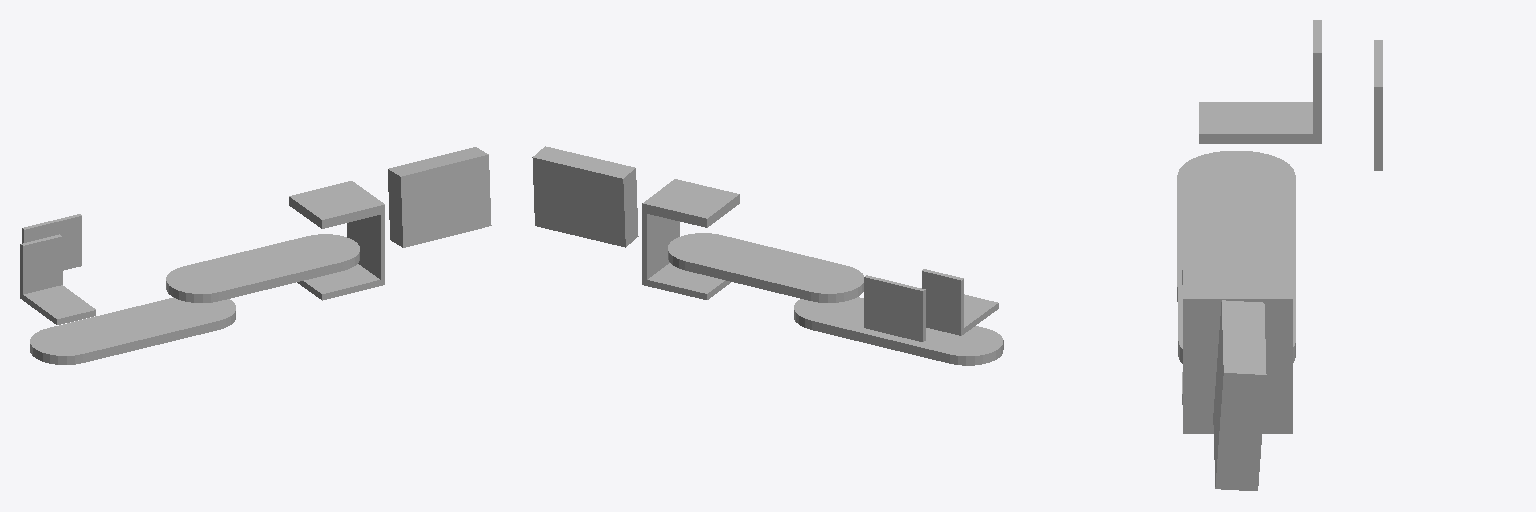
robot.urdf — ShiggyDiggy:
<?xml version="1.0"?>

<!-- Copied old solidworks-bar-bot.urdf here -->

<robot
  name="ShiggyDiggy">
  <link
    name="world">
    <inertial>
      <origin
        xyz="0.0228873277740538 -0.0192377122317781 1.6596570853809E-19"
        rpy="0 0 0" />
      <mass
        value="0.250135388974212" />
      <inertia
        ixx="5.49414753497412E-06"
        ixy="-3.33112291147392E-06"
        ixz="-7.03406901075549E-22"
        iyy="2.01967271186479E-06"
        iyz="-1.16015571755593E-21"
        izz="7.51382024683892E-06" />
    </inertial>
    <visual>
      <origin
        xyz="0 0 0"
        rpy="0 0 0" />
      <geometry>
        <mesh
          filename="package://bar-bot/mesh/base_link.STL" />
      </geometry>
      <material
        name="">
        <color
          rgba="0.752941176470588 0.752941176470588 0.752941176470588 1" />
      </material>
    </visual>
    <collision>
      <origin
        xyz="0 0 0"
        rpy="0 0 0" />
      <geometry>
        <mesh
          filename="package://bar-bot/mesh/base_link.STL" />
      </geometry>
    </collision>
  </link>
  <link
    name="link_1">
    <inertial>
      <origin
        xyz="0.0238623618445129 -8.68106703015808E-18 -0.0156442716587478"
        rpy="0 0 0" />
      <mass
        value="0.0344061528152689" />
      <inertia
        ixx="0"
        ixy="0"
        ixz="0"
        iyy="0"
        iyz="0"
        izz="0" />
    </inertial>
    <visual>
      <origin
        xyz="0 0 0"
        rpy="0 0 0" />
      <geometry>
        <mesh
          filename="package://bar-bot/mesh/link_1.STL" />
      </geometry>
      <material
        name="">
        <color
          rgba="0.752941176470588 0.752941176470588 0.752941176470588 1" />
      </material>
    </visual>
    <collision>
      <origin
        xyz="0 0 0"
        rpy="0 0 0" />
      <geometry>
        <mesh
          filename="package://bar-bot/mesh/link_1.STL" />
      </geometry>
    </collision>
  </link>
  <joint
    name="joint_1"
    type="continuous">
    <origin
      xyz="0 -0.0361 0"
      rpy="0 -6.12303176911189E-17 -1.5707963267949" />
    <parent
      link="world" />
    <child
      link="link_1" />
    <axis
      xyz="0 0 1" />
  </joint>
  <link
    name="link_2">
    <inertial>
      <origin
        xyz="0.0777817459305 -5.55111512312578E-17 -0.0105954055001962"
        rpy="0 0 0" />
      <mass
        value="0.611278584185544" />
      <inertia
        ixx="4.7232830097985E-05"
        ixy="-4.69614366193551E-19"
        ixz="-1.86419341144439E-19"
        iyy="0.00148596332609589"
        iyz="-2.62045054919466E-19"
        izz="0.0014387304959979" />
    </inertial>
    <visual>
      <origin
        xyz="0 0 0"
        rpy="0 0 0" />
      <geometry>
        <mesh
          filename="package://bar-bot/mesh/link_2.STL" />
      </geometry>
      <material
        name="">
        <color
          rgba="0.752941176470588 0.752941176470588 0.752941176470588 1" />
      </material>
    </visual>
    <collision>
      <origin
        xyz="0 0 0"
        rpy="0 0 0" />
      <geometry>
        <mesh
          filename="package://bar-bot/mesh/link_2.STL" />
      </geometry>
    </collision>
  </link>
  <joint
    name="joint_2"
    type="continuous">
    <origin
      xyz="0.05 0 -0.0611"
      rpy="-3.14159265358979 6.93889390390723E-16 1.5707963267949" />
    <parent
      link="link_1" />
    <child
      link="link_2" />
    <axis
      xyz="0 0 1" />
  </joint>
  <link
    name="link_3">
    <inertial>
      <origin
        xyz="0.101236594152 0 0.00790252026148286"
        rpy="0 0 0" />
      <mass
        value="0.369429274310776" />
      <inertia
        ixx="3.64522375324023E-05"
        ixy="2.53823109397908E-19"
        ixz="-8.6241906200563E-05"
        iyy="0.000240490916323941"
        iyz="1.07284505672546E-19"
        izz="0.000204038678791539" />
    </inertial>
    <visual>
      <origin
        xyz="0 0 0"
        rpy="0 0 0" />
      <geometry>
        <mesh
          filename="package://bar-bot/mesh/link_3.STL" />
      </geometry>
      <material
        name="">
        <color
          rgba="0.752941176470588 0.752941176470588 0.752941176470588 1" />
      </material>
    </visual>
    <collision>
      <origin
        xyz="0 0 0"
        rpy="0 0 0" />
      <geometry>
        <mesh
          filename="package://bar-bot/mesh/link_3.STL" />
      </geometry>
    </collision>
  </link>
  <joint
    name="joint_3"
    type="continuous">
    <origin
      xyz="0.155563491861 0 -0.0311"
      rpy="-8.28462607962256E-15 -3.67369593542186E-16 -9.57960920412926E-17" />
    <parent
      link="link_2" />
    <child
      link="link_3" />
    <axis
      xyz="0 0 1" />
  </joint>
  <link
    name="link_4">
    <inertial>
      <origin
        xyz="0.051946024025035 0.0364074915584401 -1.38777878078145E-17"
        rpy="0 0 0" />
      <mass
        value="0.336419418486383" />
      <inertia
        ixx="4.29940836846642E-06"
        ixy="2.43788252763637E-05"
        ixz="-4.73511269849855E-20"
        iyy="0.000138234629260738"
        iyz="8.470329472543E-21"
        izz="0.000142534037629204" />
    </inertial>
    <visual>
      <origin
        xyz="0 0 0"
        rpy="0 0 0" />
      <geometry>
        <mesh
          filename="package://bar-bot/mesh/link_4.STL" />
      </geometry>
      <material
        name="">
        <color
          rgba="0.752941176470588 0.752941176470588 0.752941176470588 1" />
      </material>
    </visual>
    <collision>
      <origin
        xyz="0 0 0"
        rpy="0 0 0" />
      <geometry>
        <mesh
          filename="package://bar-bot/mesh/link_4.STL" />
      </geometry>
    </collision>
  </link>
  <joint
    name="joint_4"
    type="continuous">
    <origin
      xyz="0.141421356237 0 0.0311"
      rpy="-1.57079632679489 1.08850772402958E-15 -0.0120495748569734" />
    <parent
      link="link_3" />
    <child
      link="link_4" />
    <axis
      xyz="0 1 0" />
  </joint>
  <link
    name="link_5">
    <inertial>
      <origin
        xyz="6.37664261435578E-05 -0.000975043041766946 0.0508117745219454"
        rpy="0 0 0" />
      <mass
        value="0.196644768" />
      <inertia
        ixx="0"
        ixy="0"
        ixz="0"
        iyy="0"
        iyz="0"
        izz="0" />
    </inertial>
    <visual>
      <origin
        xyz="0 0 0"
        rpy="0 0 0" />
      <geometry>
        <mesh
          filename="package://bar-bot/mesh/link_5.STL" />
      </geometry>
      <material
        name="">
        <color
          rgba="0.752941176470588 0.752941176470588 0.752941176470588 1" />
      </material>
    </visual>
    <collision>
      <origin
        xyz="0 0 0"
        rpy="0 0 0" />
      <geometry>
        <mesh
          filename="package://bar-bot/mesh/link_5.STL" />
      </geometry>
    </collision>
  </link>
  <joint
    name="joint_5"
    type="continuous">
    <origin
      xyz="0.0810882254780547 0.0560999999999999 0.000977125933747033"
      rpy="1.57079632679489 0.0653055782012251 1.5707963267949" />
    <parent
      link="link_4" />
    <child
      link="link_5" />
    <axis
      xyz="0 0 1" />
  </joint>
</robot>

--- What the picture shows (computed from the rendered views, not written in the file) ---
The picture shows the robot from 3 angles, left to right: view 1: azimuth 30°, elevation 25°; view 2: azimuth 150°, elevation 25°; view 3: azimuth 270°, elevation 25°; orthographic projection.
Robot: ShiggyDiggy — 6 links, 5 joints (5 continuous); root link world; default pose: all joints at 0.
Visible links, largest first — view 1: link_5, link_2, link_3, link_4, link_1, world; view 2: link_5, link_3, link_4, link_2, world, link_1; view 3: link_4, link_5, link_2, link_1, link_3, world.
Link boxes in pixels (x1,y1,x2,y2): link_5: (388, 147, 491, 247); link_2: (30, 297, 235, 364); link_3: (166, 234, 359, 302); link_4: (289, 181, 384, 300); link_1: (20, 234, 95, 324); world: (22, 214, 81, 270); link_5: (532, 146, 638, 247); link_3: (668, 233, 863, 302); link_4: (642, 179, 739, 299); link_2: (794, 297, 1003, 365); world: (864, 275, 925, 341); link_1: (922, 269, 998, 335); link_4: (1182, 247, 1292, 433); link_5: (1213, 300, 1266, 490); link_2: (1177, 151, 1295, 301); link_1: (1199, 20, 1321, 143); link_3: (1178, 214, 1295, 363); world: (1374, 40, 1382, 170).
Size in the robot's own frame: 0.515 by 0.1215 by 0.1049 metres.
6 mesh visuals loaded from 6 distinct referenced files (6 binary STL).
